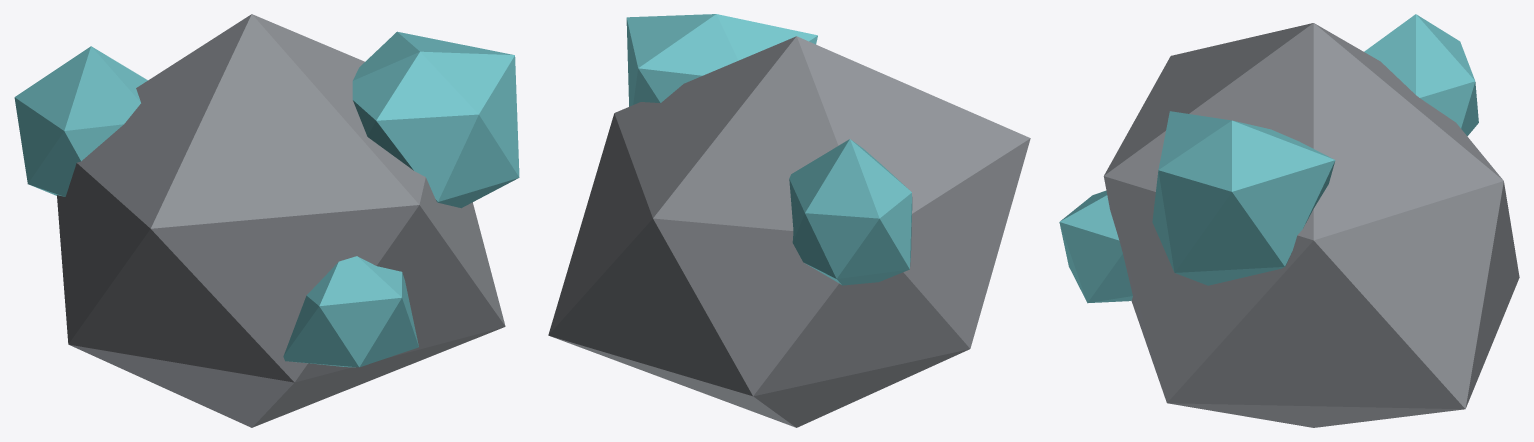
File: ore_dia.fbx
3 views of the same model, side by side, from view 1: azimuth 30°, elevation 25°; view 2: azimuth 150°, elevation 25°; view 3: azimuth 270°, elevation 25° (orthographic). The views are drawn at different scales.
Parts seen in each view (by area): view 1: ore_dia; view 2: ore_dia; view 3: ore_dia.
Boxes of the visible parts, x1=… form: ore_dia: x1=14, y1=14, x2=519, y2=427; ore_dia: x1=548, y1=14, x2=1030, y2=427; ore_dia: x1=1059, y1=14, x2=1519, y2=427.
Bounding box in the file's own units: 0.6721 × 0.6565 × 0.6759.
